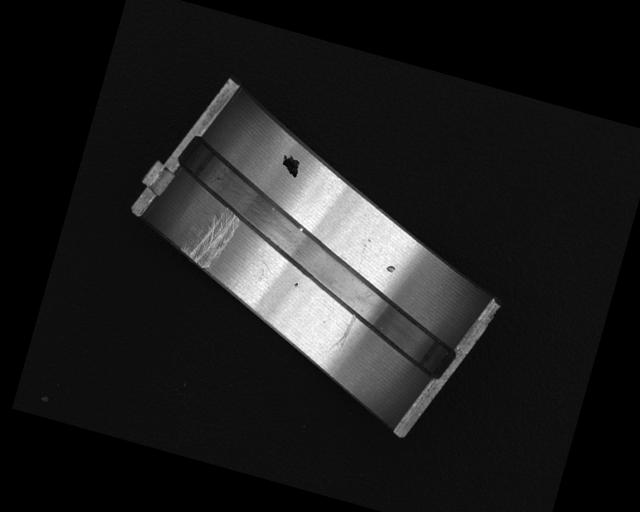blot: (276, 153, 303, 179)
bruise: (385, 264, 396, 274), (293, 280, 299, 287)
gap: (142, 134, 495, 383)
nick: (328, 310, 357, 355)
scratch: (177, 202, 241, 274)
